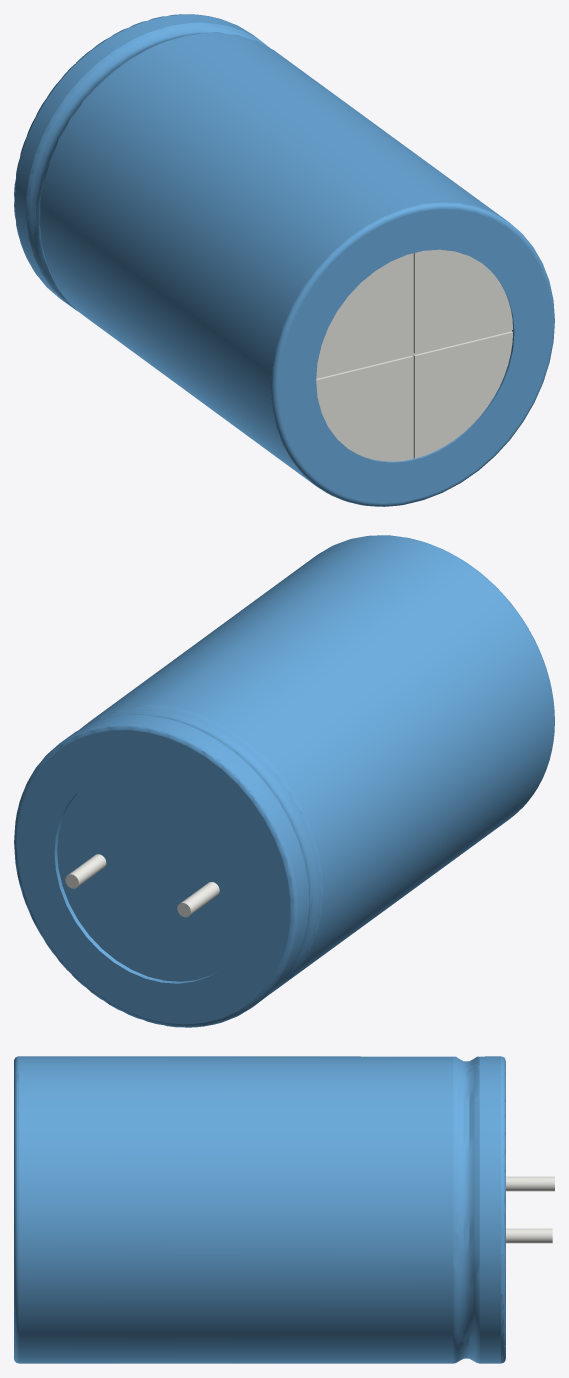
File: C_Radial_D12.5mm_H20.0mm_P5.00mm.glb
3 renders of one model, top to bottom at view 1: azimuth 30°, elevation 25°; view 2: azimuth 150°, elevation 25°; view 3: azimuth 270°, elevation 25°, orthographic. The views are drawn at different scales.
Parts seen in each view (by area): view 1: Shape_IndexedFaceSet.012, Shape_IndexedFaceSet.014, Shape_IndexedFaceSet.018, Shape_IndexedFaceSet.027, Shape_IndexedFaceSet.021, Shape_IndexedFaceSet.024, Shape_IndexedFaceSet.013, Shape_IndexedFaceSet.008, Shape_IndexedFaceSet.010, Shape_IndexedFaceSet.009, Shape_IndexedFaceSet.011; view 2: Shape_IndexedFaceSet.012, Shape_IndexedFaceSet.002, Shape_IndexedFaceSet.005, Shape_IndexedFaceSet.007, Shape_IndexedFaceSet.008, Shape_IndexedFaceSet.010, Shape_IndexedFaceSet.011, Shape_IndexedFaceSet.003, Shape_IndexedFaceSet.009; view 3: Shape_IndexedFaceSet.012, Shape_IndexedFaceSet.008, Shape_IndexedFaceSet.010, Shape_IndexedFaceSet.011, Shape_IndexedFaceSet.009, Shape_IndexedFaceSet.013, Shape_IndexedFaceSet.007, Shape_IndexedFaceSet.004, Shape_IndexedFaceSet.001.
Boxes of the visible parts, left/top/right/bottom form: Shape_IndexedFaceSet.012: left=40, top=33, right=506, bottom=484; Shape_IndexedFaceSet.014: left=278, top=209, right=552, bottom=503; Shape_IndexedFaceSet.018: left=415, top=332, right=512, bottom=458; Shape_IndexedFaceSet.027: left=415, top=249, right=512, bottom=353; Shape_IndexedFaceSet.021: left=316, top=357, right=412, bottom=461; Shape_IndexedFaceSet.024: left=316, top=253, right=412, bottom=377; Shape_IndexedFaceSet.013: left=271, top=202, right=554, bottom=506; Shape_IndexedFaceSet.008: left=14, top=14, right=257, bottom=306; Shape_IndexedFaceSet.010: left=30, top=26, right=255, bottom=300; Shape_IndexedFaceSet.009: left=26, top=22, right=269, bottom=310; Shape_IndexedFaceSet.011: left=39, top=32, right=256, bottom=306; Shape_IndexedFaceSet.012: left=91, top=535, right=554, bottom=988; Shape_IndexedFaceSet.002: left=57, top=770, right=252, bottom=981; Shape_IndexedFaceSet.005: left=16, top=730, right=290, bottom=1024; Shape_IndexedFaceSet.007: left=14, top=723, right=297, bottom=1027; Shape_IndexedFaceSet.008: left=62, top=715, right=308, bottom=1005; Shape_IndexedFaceSet.010: left=93, top=708, right=318, bottom=982; Shape_IndexedFaceSet.011: left=79, top=704, right=322, bottom=992; Shape_IndexedFaceSet.003: left=54, top=784, right=221, bottom=983; Shape_IndexedFaceSet.009: left=128, top=714, right=309, bottom=987; Shape_IndexedFaceSet.012: left=19, top=1056, right=453, bottom=1363; Shape_IndexedFaceSet.008: left=479, top=1056, right=500, bottom=1363; Shape_IndexedFaceSet.010: left=458, top=1058, right=474, bottom=1361; Shape_IndexedFaceSet.011: left=453, top=1056, right=458, bottom=1363; Shape_IndexedFaceSet.009: left=474, top=1056, right=479, bottom=1363; Shape_IndexedFaceSet.013: left=14, top=1056, right=18, bottom=1363; Shape_IndexedFaceSet.007: left=501, top=1056, right=505, bottom=1363; Shape_IndexedFaceSet.004: left=506, top=1176, right=554, bottom=1191; Shape_IndexedFaceSet.001: left=506, top=1228, right=552, bottom=1243.
Size of the model in its own units: 4.92 by 4.92 by 8.66.
